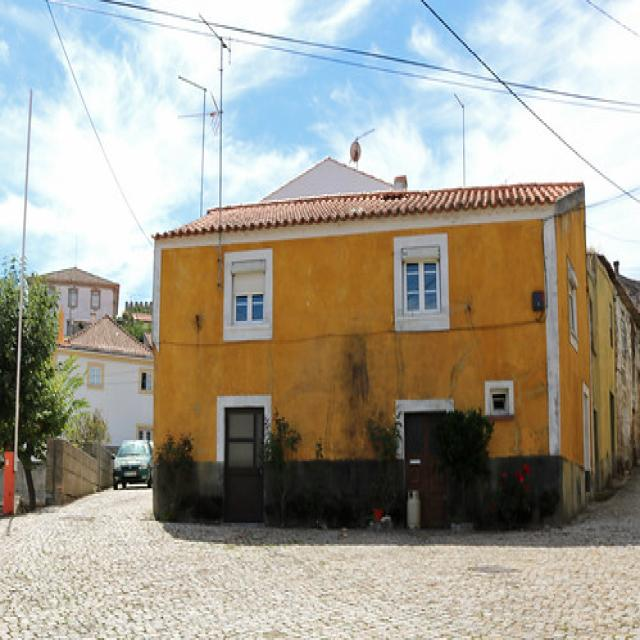building: (146, 156, 604, 534)
